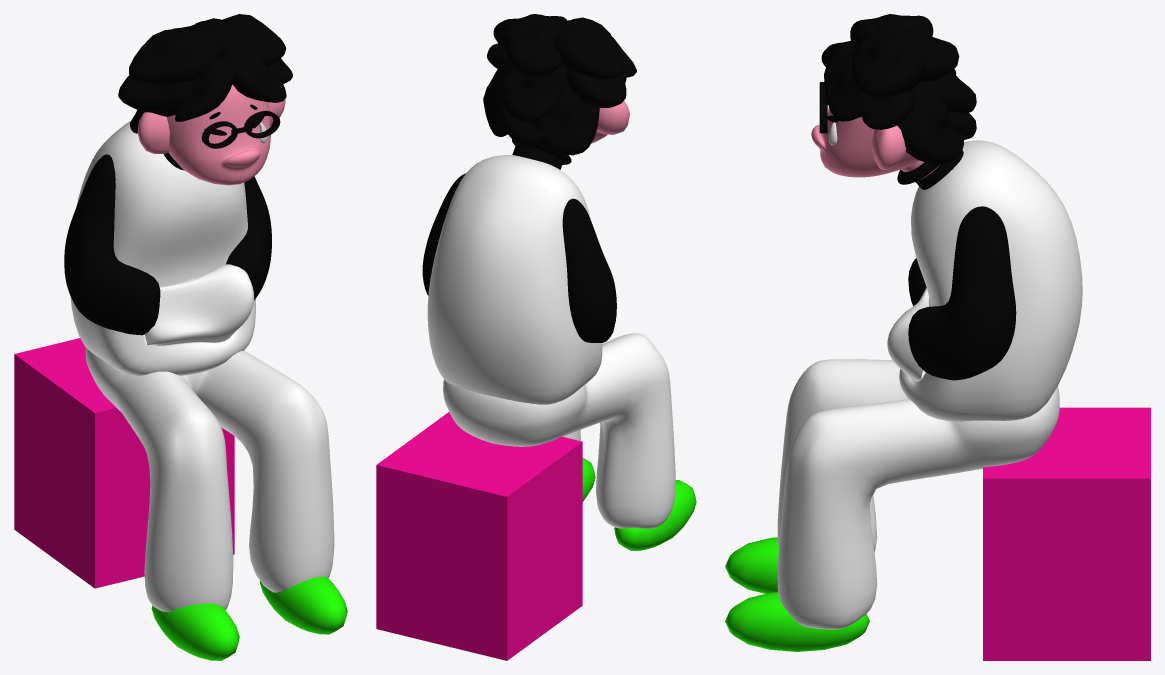
Rendered from worker_sad.glb.
3 views of the same model, side by side, from view 1: azimuth 30°, elevation 25°; view 2: azimuth 150°, elevation 25°; view 3: azimuth 270°, elevation 25° (orthographic). The views are drawn at different scales.
Parts seen in each view (by area): view 1: pCube10, pCube9, 1body1, 3-2body, pCube1, pSphere9.006, pCube13, pCube12, pSphere9.005, pSphere9.007, pSphere9.003, pSphere9.004 (+2 smaller); view 2: pCube9, 1body1, pCube10, 3-2body, pSphere9.006, pSphere9.010, pSphere9.009, pSphere9.008, pCube13, pSphere9.007, pSphere9.011, pSphere9.012 (+3 smaller); view 3: pCube9, pCube10, 1body1, 3-2body, pCube12, pCube1, pSphere9.005, pSphere9.011, pCube13, pSphere9.003, pSphere9.008, pSphere9.002 (+2 smaller).
Part boxes in pixels (<box>): pCube10: <box>85,334,334,611</box>; pCube9: <box>14,338,234,588</box>; 1body1: <box>70,121,255,375</box>; 3-2body: <box>64,154,271,335</box>; pCube1: <box>137,84,285,185</box>; pSphere9.006: <box>129,29,221,85</box>; pCube13: <box>151,603,239,660</box>; pCube12: <box>259,576,347,634</box>; pSphere9.005: <box>217,14,286,65</box>; pSphere9.007: <box>118,75,193,116</box>; pSphere9.003: <box>221,54,286,102</box>; pSphere9.004: <box>175,57,234,121</box>; pCube9: <box>376,412,582,660</box>; 1body1: <box>427,155,602,404</box>; pCube10: <box>443,333,675,528</box>; 3-2body: <box>422,173,616,342</box>; pSphere9.006: <box>554,17,623,79</box>; pSphere9.010: <box>531,85,599,155</box>; pSphere9.009: <box>500,65,567,122</box>; pSphere9.008: <box>507,18,569,76</box>; pCube13: <box>614,480,696,550</box>; pSphere9.007: <box>567,70,626,107</box>; pSphere9.011: <box>483,60,511,136</box>; pSphere9.012: <box>500,101,544,145</box>; pCube9: <box>983,407,1150,660</box>; pCube10: <box>777,359,1059,629</box>; 1body1: <box>887,140,1082,421</box>; 3-2body: <box>908,206,1016,380</box>; pCube12: <box>725,592,869,651</box>; pCube1: <box>811,107,939,179</box>; pSphere9.005: <box>852,33,926,98</box>; pSphere9.011: <box>897,80,963,164</box>; pCube13: <box>725,537,778,593</box>; pSphere9.003: <box>824,46,872,121</box>; pSphere9.008: <box>875,23,959,82</box>; pSphere9.002: <box>860,90,914,129</box>.
Size of the model in its own units: 0.4183 by 1.18 by 0.7618.
